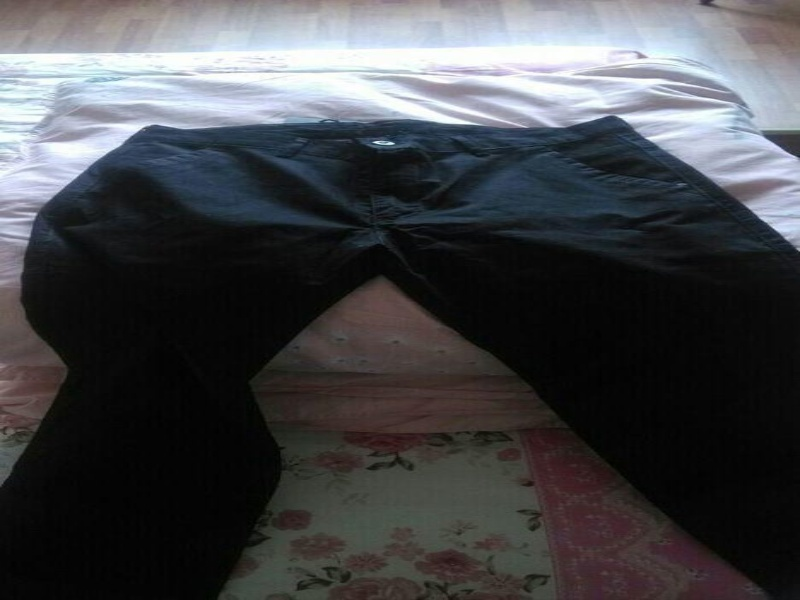trousers: (0, 112, 798, 599)
